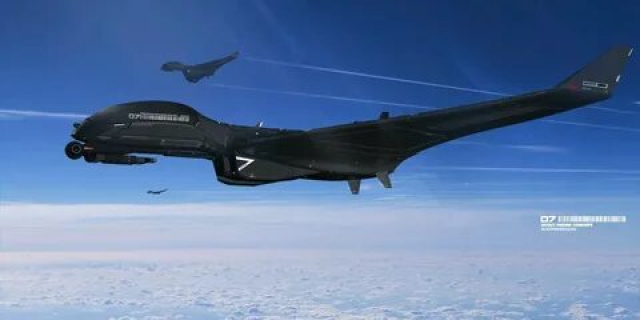military drone: (64, 44, 635, 195), (160, 47, 239, 84), (146, 187, 168, 194)
